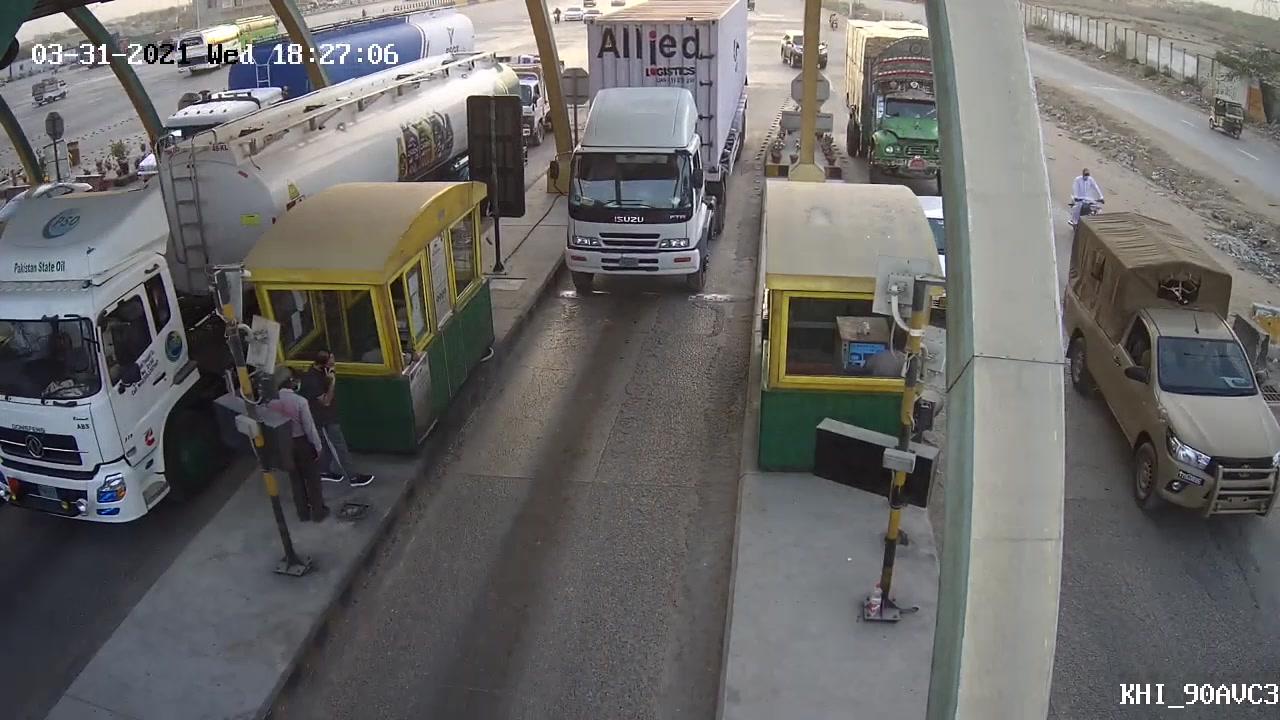F6: (544, 3, 757, 305)
